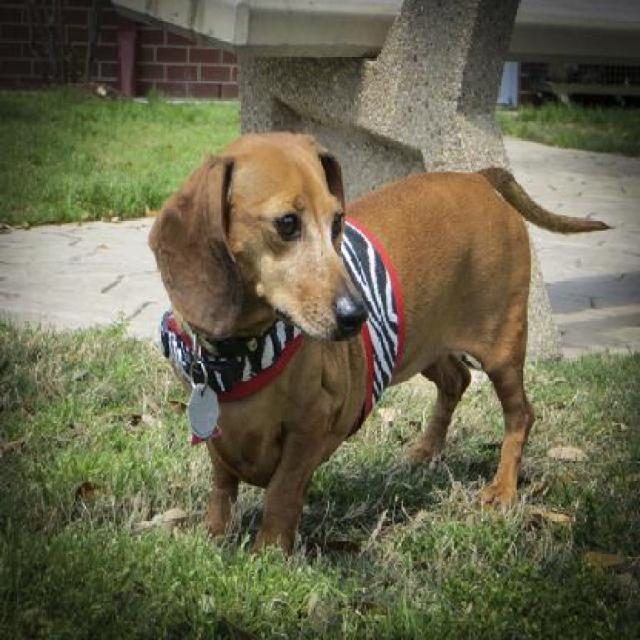Dog: (147, 125, 618, 564)
